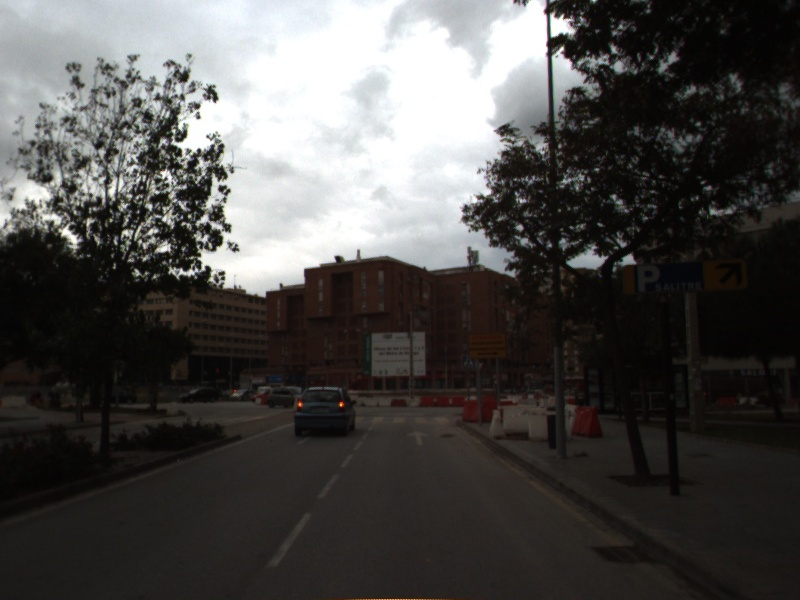STRAIGHT: (404, 428, 432, 447)
